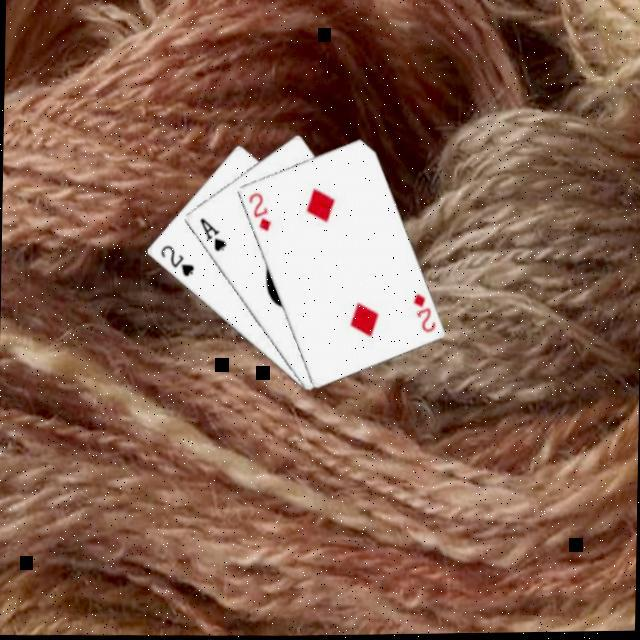2D: (244, 189, 273, 234), (408, 290, 437, 335)
2S: (155, 240, 197, 279)
AS: (194, 213, 229, 254)
